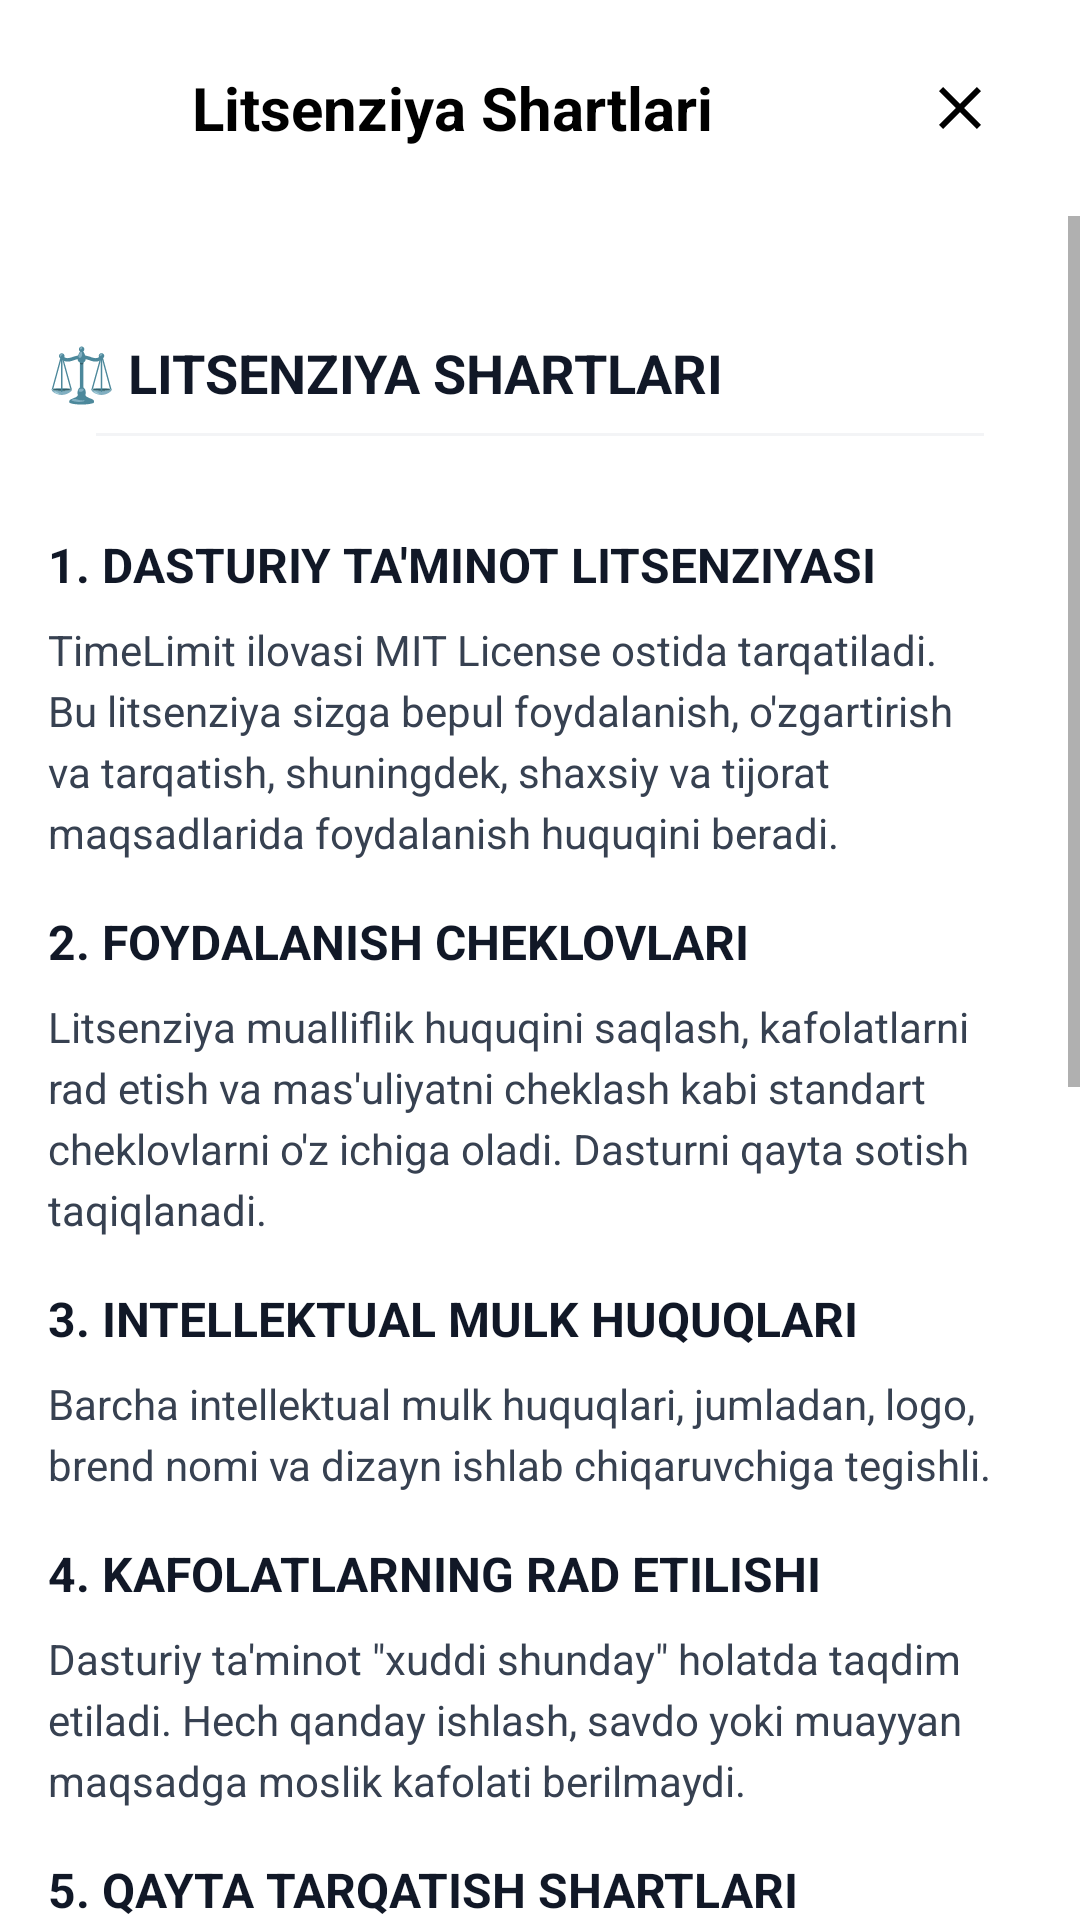

Named icons in this screenshot (1080 × 1920) and their bounding boxes, (x1, y1, x2, y2):
close: (939, 87, 981, 129)
